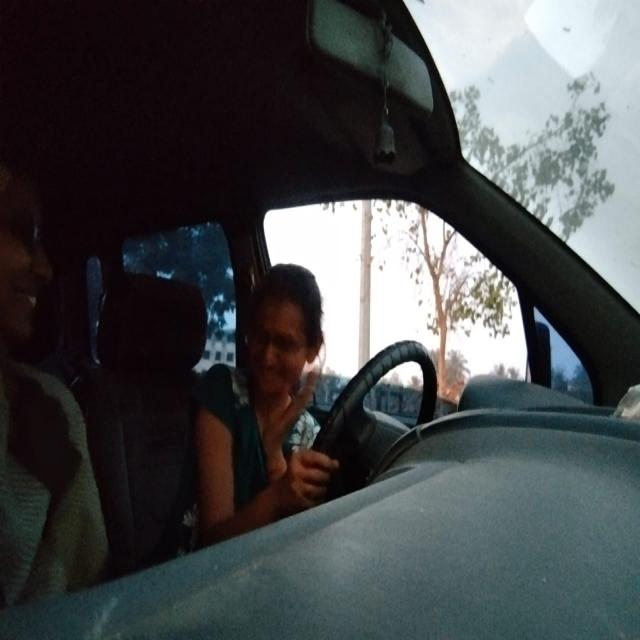LeftRight: (235, 256, 327, 411)
person: (2, 149, 55, 348)
